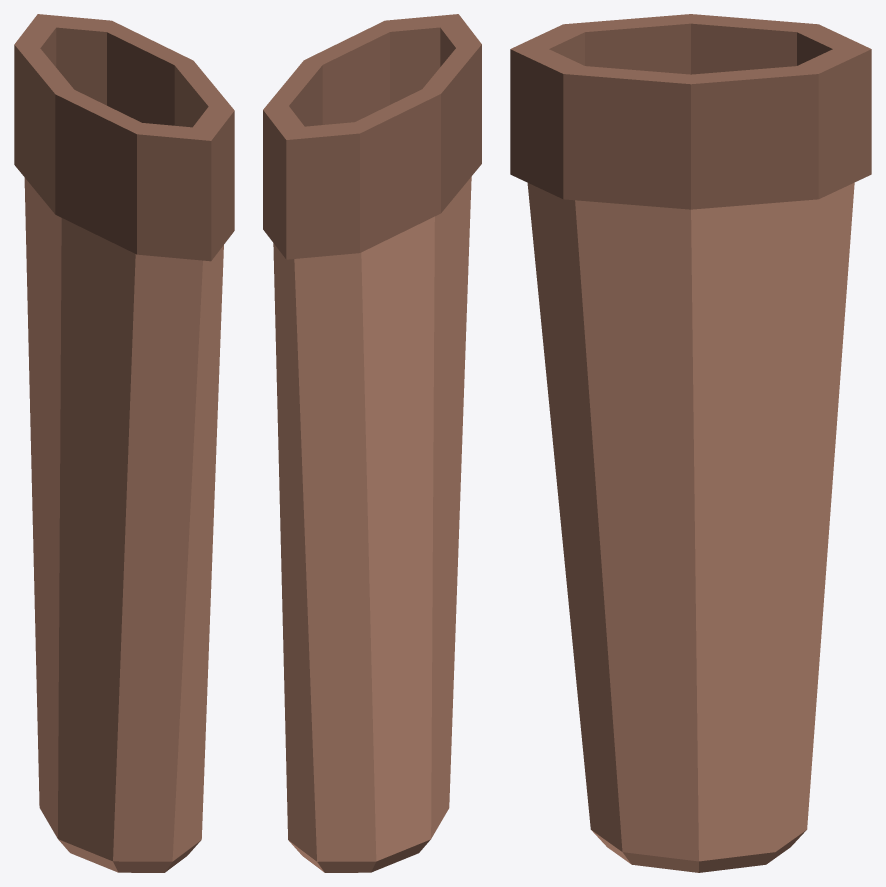
Rendered from Quiver.glb.
The picture shows the model from 3 angles, left to right: view 1: azimuth 30°, elevation 25°; view 2: azimuth 150°, elevation 25°; view 3: azimuth 270°, elevation 25°; orthographic projection. The views are drawn at different scales.
Visible parts, largest first — view 1: Quiver; view 2: Quiver; view 3: Quiver.
Boxes of the visible parts, x1=… form: Quiver: x1=14, y1=14, x2=234, y2=872; Quiver: x1=263, y1=14, x2=481, y2=872; Quiver: x1=510, y1=14, x2=871, y2=872.
Size of the model in its own units: 15.12 by 80.11 by 32.88.
